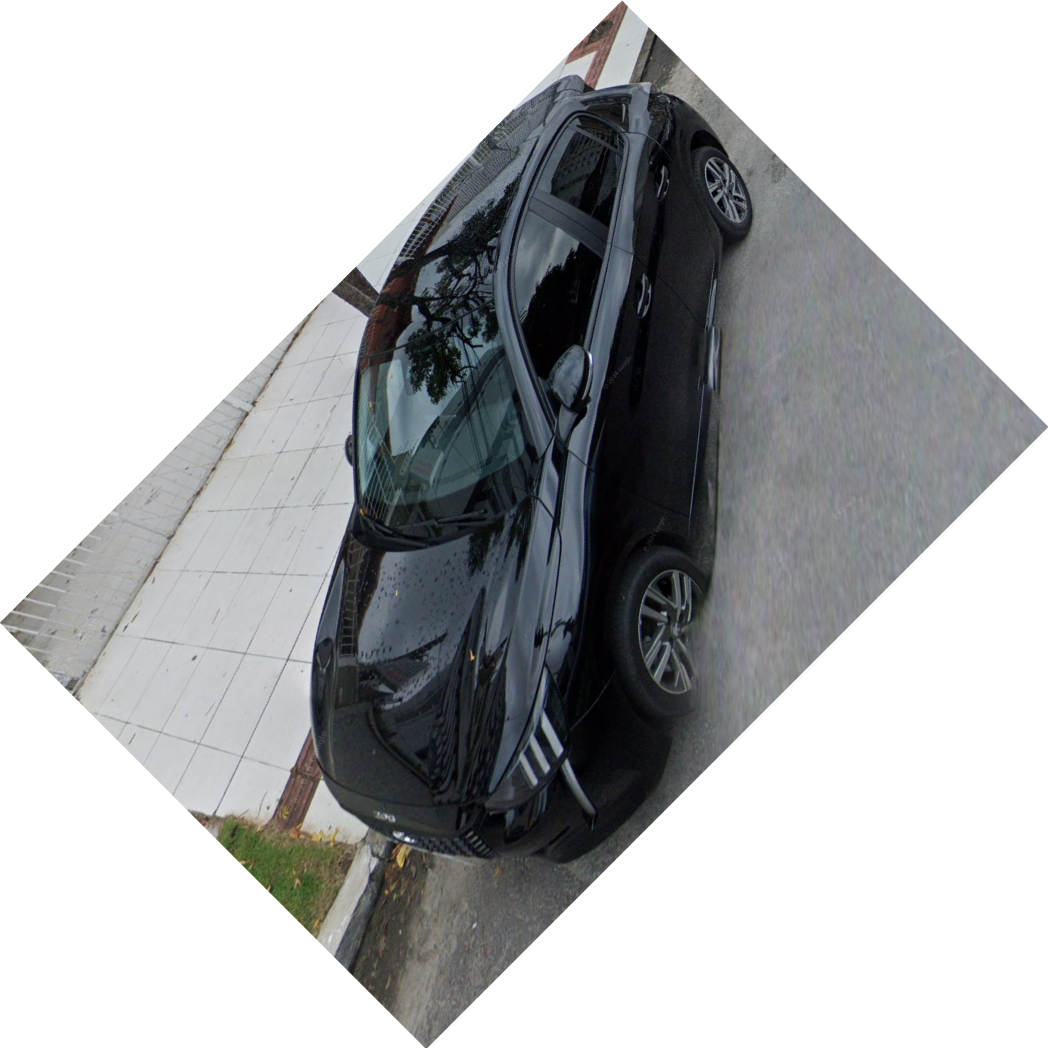car: (301, 79, 758, 869)
